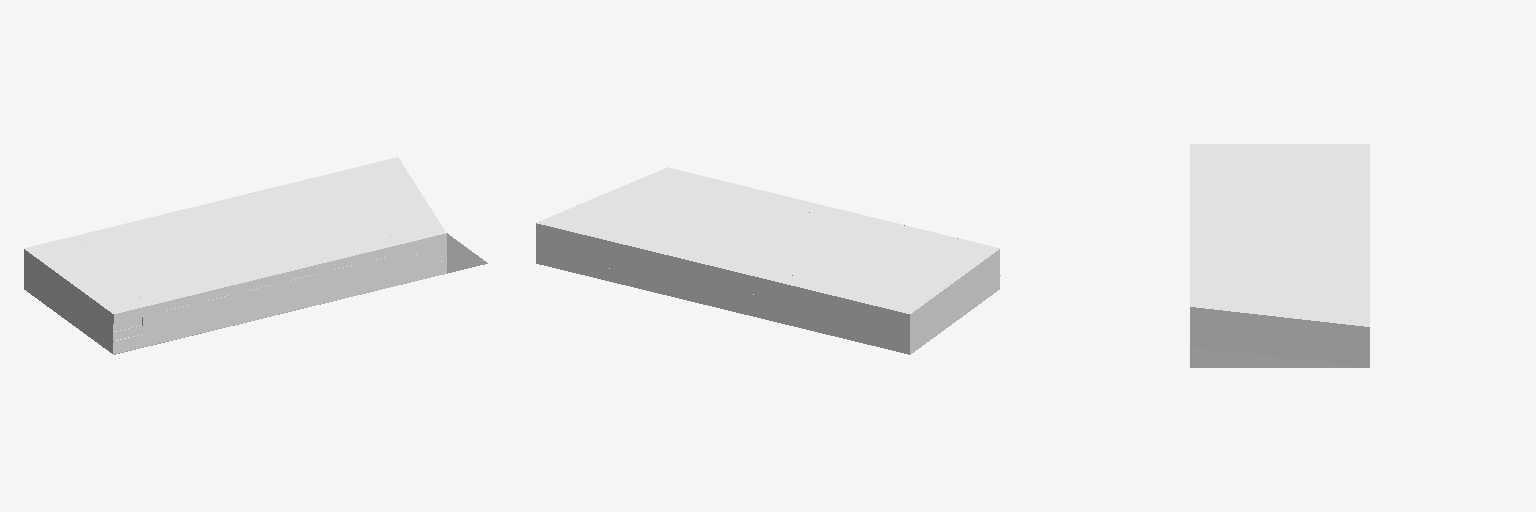
Rendered from HoweAtrium_simple.obj.
3 views of the same model, side by side, from view 1: azimuth 30°, elevation 25°; view 2: azimuth 150°, elevation 25°; view 3: azimuth 270°, elevation 25° (orthographic).
Visible parts, largest first — view 1: room_54_292, wall_2_10, wall_36_214, wall_17_100, wall_13_76, wall_3_16, wall_43_256, ground_1, wall_45_268, wall_44_262, wall_34_202; view 2: room_54_292, wall_1_4, wall_37_220, wall_39_232, wall_38_226, wall_3_16, wall_43_256, wall_44_262, wall_45_268; view 3: room_54_292, wall_47_280, ground_1, wall_46_274, wall_32_190, wall_4_22.
Boxes of the visible parts, x1=… form: room_54_292: x1=24, y1=157, x2=445, y2=313; wall_2_10: x1=113, y1=261, x2=446, y2=354; wall_36_214: x1=114, y1=233, x2=446, y2=322; wall_17_100: x1=142, y1=251, x2=411, y2=325; wall_13_76: x1=142, y1=260, x2=411, y2=334; wall_3_16: x1=24, y1=277, x2=112, y2=353; wall_43_256: x1=24, y1=267, x2=112, y2=340; ground_1: x1=114, y1=233, x2=487, y2=354; wall_45_268: x1=24, y1=254, x2=112, y2=331; wall_44_262: x1=24, y1=249, x2=113, y2=323; wall_34_202: x1=113, y1=247, x2=446, y2=340; room_54_292: x1=537, y1=167, x2=999, y2=313; wall_1_4: x1=536, y1=251, x2=909, y2=354; wall_37_220: x1=536, y1=237, x2=909, y2=341; wall_39_232: x1=536, y1=223, x2=909, y2=322; wall_38_226: x1=536, y1=232, x2=909, y2=332; wall_3_16: x1=910, y1=277, x2=999, y2=354; wall_43_256: x1=910, y1=267, x2=999, y2=341; wall_44_262: x1=910, y1=249, x2=999, y2=323; wall_45_268: x1=910, y1=256, x2=999, y2=331; room_54_292: x1=1190, y1=144, x2=1369, y2=326; wall_47_280: x1=1190, y1=334, x2=1369, y2=367; ground_1: x1=1190, y1=347, x2=1368, y2=367; wall_46_274: x1=1190, y1=325, x2=1369, y2=354; wall_32_190: x1=1190, y1=307, x2=1369, y2=335; wall_4_22: x1=1190, y1=316, x2=1369, y2=341.
Size of the model in its own units: 10989 by 1133 by 4581.